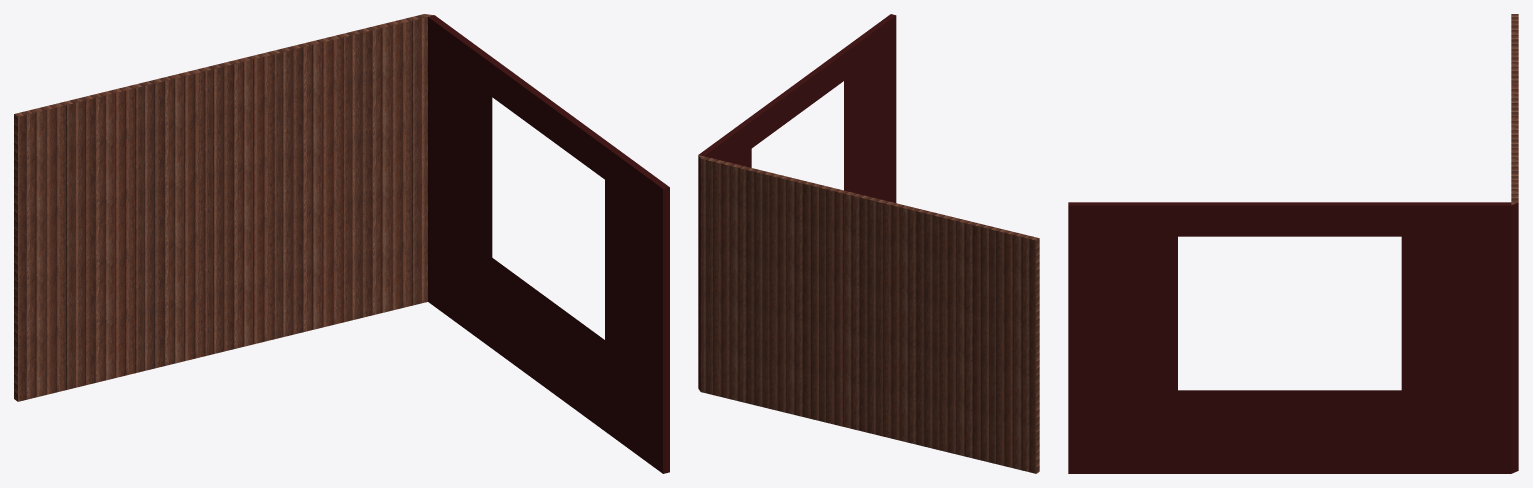
Rendered from Wall.glb.
3 views of the same model, side by side, from view 1: azimuth 30°, elevation 25°; view 2: azimuth 150°, elevation 25°; view 3: azimuth 270°, elevation 25° (orthographic). The views are drawn at different scales.
Parts seen in each view (by area): view 1: Wall; view 2: Wall; view 3: Wall.
Boxes of the visible parts, x1=… form: Wall: x1=14, y1=14, x2=669, y2=473; Wall: x1=698, y1=14, x2=1039, y2=473; Wall: x1=1068, y1=14, x2=1518, y2=473.
Bounding box in the file's own units: 3.06 × 2 × 3.04.
2 materials, 1 textured.
